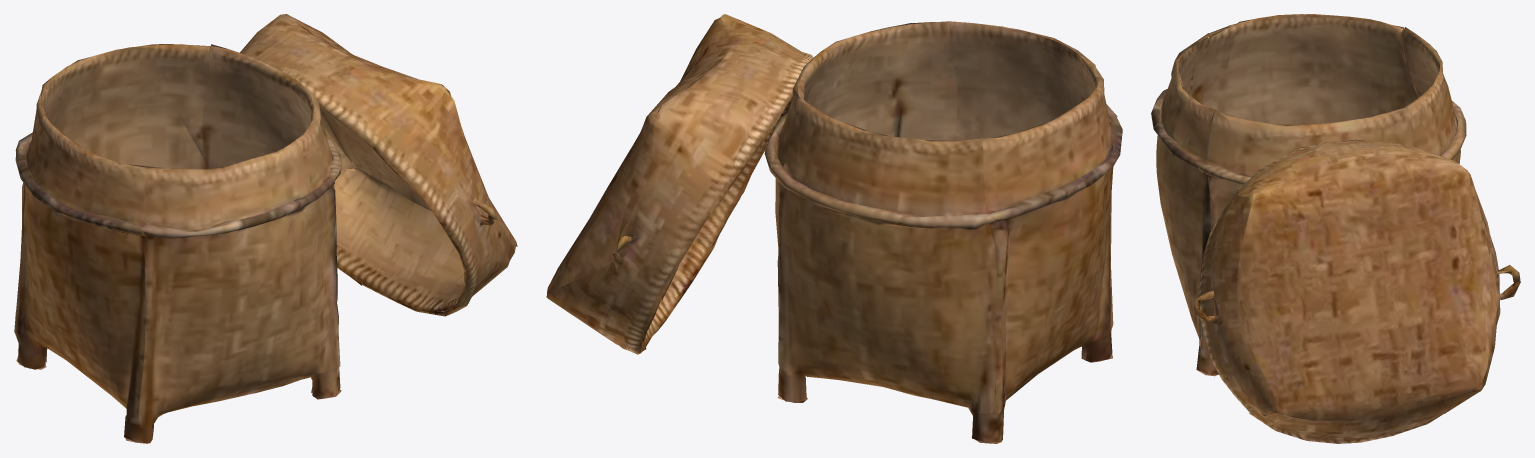
Rendered from basket-balanced-01a1ae22bc.glb.
3 views of the same model, side by side, from view 1: azimuth 30°, elevation 25°; view 2: azimuth 150°, elevation 25°; view 3: azimuth 270°, elevation 25° (orthographic). The views are drawn at different scales.
Visible parts, largest first — view 1: wicker_basket_02_base; view 2: wicker_basket_02_base; view 3: wicker_basket_02_base.
Part boxes in pixels (<box>): wicker_basket_02_base: <box>14,14,517,443</box>; wicker_basket_02_base: <box>546,14,1122,443</box>; wicker_basket_02_base: <box>1151,14,1520,443</box>.
Bounding box in the file's own units: 0.3466 × 0.2008 × 0.2544.
Materials: 1 (1 with a texture image).
